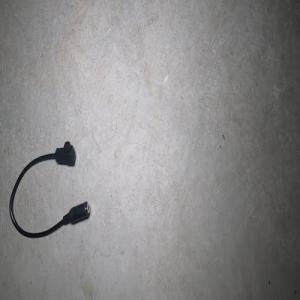Wire: (8, 141, 90, 238)
